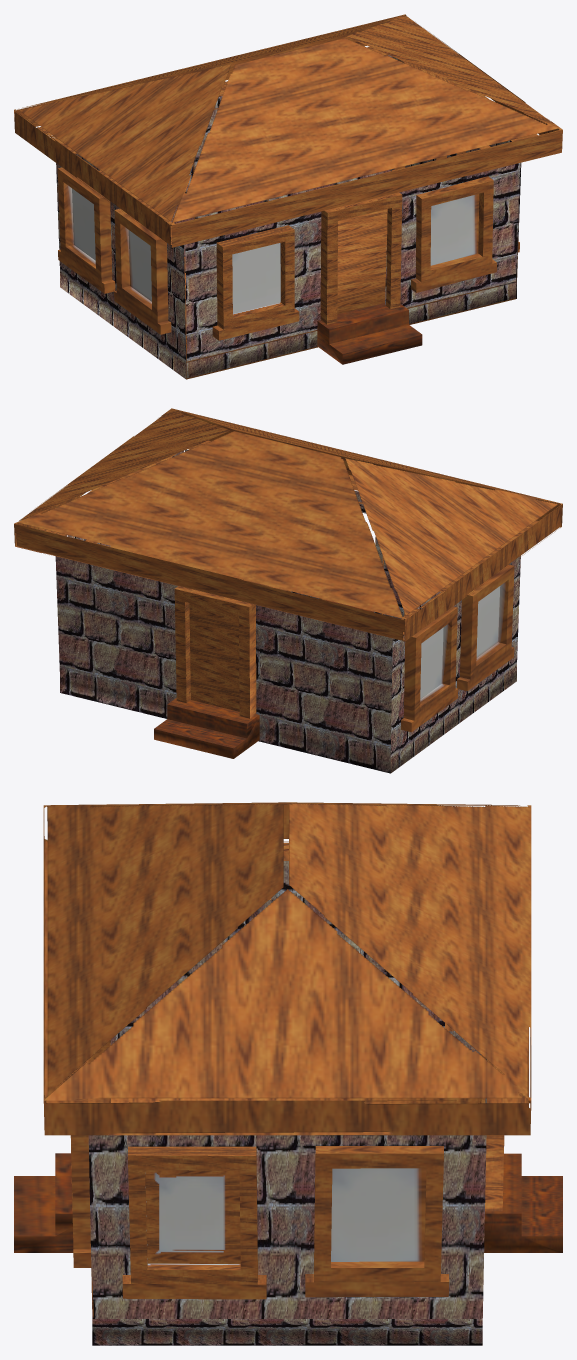
Rendered from 3StoreyHouse.fbx.
3 views of the same model, one above another, from view 1: azimuth 30°, elevation 25°; view 2: azimuth 150°, elevation 25°; view 3: azimuth 270°, elevation 25° (orthographic). The views are drawn at different scales.
Visible parts, largest first — view 1: SM_Bld_House_01; view 2: SM_Bld_House_01; view 3: SM_Bld_House_01.
Boxes of the visible parts, x1=… form: SM_Bld_House_01: x1=14, y1=14, x2=562, y2=379; SM_Bld_House_01: x1=14, y1=408, x2=562, y2=773; SM_Bld_House_01: x1=14, y1=802, x2=562, y2=1345.
Size of the model in its own units: 110 by 65.62 by 86.62.
